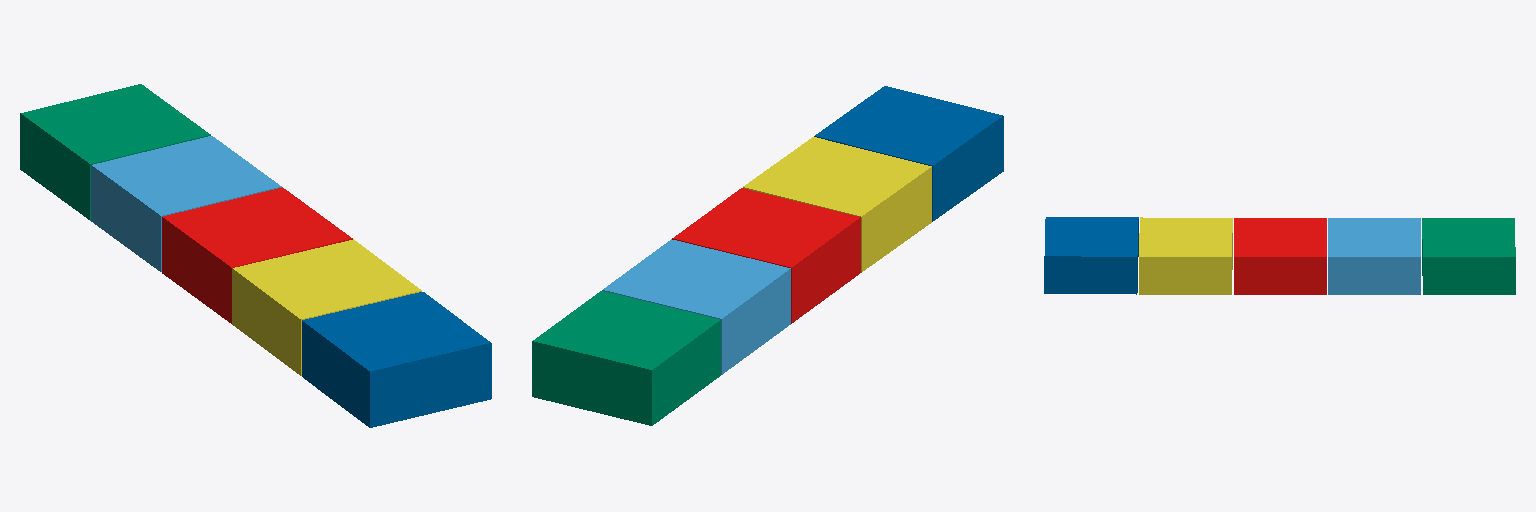
URDF robot description (Model_Models/testPiece.urdf8):
<?xml version='1.0' encoding='UTF-8'?>
<robot name="Model_Models/testPiece.urdf8">
  <link name="base_link">
    <inertial>
      <origin xyz="0.0 0.0 0.0" rpy="0.0 -0.0 0.0"/>
      <mass value="1.0"/>
      <inertia ixx="1.0" ixy="0.0" ixz="0.0" iyy="1.0" iyz="0.0" izz="1.0"/>
    </inertial>
    <visual>
      <geometry>
        <box size="0.67 0.67 0.3 "/>
      </geometry>
      <material name="red"/>
      <origin xyz="0.0 0.0 0.0" rpy="0.0 -0.0 0.0"/>
    </visual>
    <collision>
      <geometry>
        <box size="0.67 0.67 0.3 "/>
      </geometry>
      <origin xyz="0.0 0.0 0.0" rpy="0.0 0.0 0.0"/>
    </collision>
  </link>
  <link name="set0_arm1">
    <inertial>
      <origin xyz="0.0 0.34 0.0" rpy="0.0 0.0 0.0"/>
      <mass value="1.0"/>
      <inertia ixx="0.0" ixy="0.0" ixz="0.0" iyy="0.0" iyz="0.0" izz="0.0"/>
    </inertial>
    <visual>
      <geometry>
        <box size="0.67 0.67 0.3 "/>
      </geometry>
      <origin xyz="0.0 0.34 0.0" rpy="0.0 0.0 0.0"/>
    </visual>
    <collision>
      <geometry>
        <box size="0.67 0.67 0.3 "/>
      </geometry>
      <origin xyz="0.0 0.34 0.0" rpy="0.0 0.0 0.0"/>
    </collision>
  </link>
  <link name="set0_arm2">
    <inertial>
      <origin xyz="0.0 0.34 0.0" rpy="0.0 0.0 0.0"/>
      <mass value="1.0"/>
      <inertia ixx="0.0" ixy="0.0" ixz="0.0" iyy="0.0" iyz="0.0" izz="0.0"/>
    </inertial>
    <visual>
      <geometry>
        <box size="0.67 0.67 0.3 "/>
      </geometry>
      <origin xyz="0.0 0.34 0.0" rpy="0.0 0.0 0.0"/>
    </visual>
    <collision>
      <geometry>
        <box size="0.67 0.67 0.3 "/>
      </geometry>
      <origin xyz="0.0 0.34 0.0" rpy="0.0 0.0 0.0"/>
    </collision>
  </link>
  <link name="arm_Permutation_8_arm1">
    <inertial>
      <origin xyz="0.0 0.34 0.0" rpy="0.0 0.0 0.0"/>
      <mass value="1.0"/>
      <inertia ixx="0.0" ixy="0.0" ixz="0.0" iyy="0.0" iyz="0.0" izz="0.0"/>
    </inertial>
    <visual>
      <geometry>
        <box size="0.67 0.67 0.3 "/>
      </geometry>
      <origin xyz="0.0 0.34 0.0" rpy="0.0 0.0 0.0"/>
    </visual>
    <collision>
      <geometry>
        <box size="0.67 0.67 0.3 "/>
      </geometry>
      <origin xyz="0.0 0.34 0.0" rpy="0.0 0.0 0.0"/>
    </collision>
  </link>
  <link name="arm_Permutation_8_arm2">
    <inertial>
      <origin xyz="0.0 0.34 0.0" rpy="0.0 0.0 0.0"/>
      <mass value="1.0"/>
      <inertia ixx="0.0" ixy="0.0" ixz="0.0" iyy="0.0" iyz="0.0" izz="0.0"/>
    </inertial>
    <visual>
      <geometry>
        <box size="0.67 0.67 0.3 "/>
      </geometry>
      <origin xyz="0.0 0.34 0.0" rpy="0.0 0.0 0.0"/>
    </visual>
    <collision>
      <geometry>
        <box size="0.67 0.67 0.3 "/>
      </geometry>
      <origin xyz="0.0 0.34 0.0" rpy="0.0 0.0 0.0"/>
    </collision>
  </link>
  <joint name="set0_jointBase" type="fixed">
    <limit effort="1.57" velocity="1.57" lower="-1.57" upper="1.57"/>
    <parent link="base_link"/>
    <child link="set0_arm1"/>
    <axis xyz="1. 0. 0."/>
    <origin xyz="0.0 0.34 0.0" rpy="0.0 0.0 0.0008016443998810793"/>
  </joint>
  <joint name="set0_joint1" type="revolute">
    <limit effort="1.57" velocity="1.57" lower="-1.57" upper="1.57"/>
    <parent link="set0_arm1"/>
    <child link="set0_arm2"/>
    <axis xyz="1. 0. 0."/>
    <origin xyz="0.0 0.68 0.0" rpy="0.0 0.0 0.0"/>
  </joint>
  <joint name="arm_Permutation_8_jointBase" type="fixed">
    <limit effort="1.57" velocity="1.57" lower="-1.57" upper="1.57"/>
    <parent link="base_link"/>
    <child link="arm_Permutation_8_arm1"/>
    <axis xyz="1. 0. 0."/>
    <origin xyz="0.0 -0.34 0.0" rpy="0.0 0.0 3.13"/>
  </joint>
  <joint name="arm_Permutation_8_joint1" type="revolute">
    <limit effort="1.57" velocity="1.57" lower="-1.57" upper="1.57"/>
    <parent link="arm_Permutation_8_arm1"/>
    <child link="arm_Permutation_8_arm2"/>
    <axis xyz="1. 0. 0."/>
    <origin xyz="0.0 0.68 0.0" rpy="0.0 0.0 0.0"/>
  </joint>
  <material name="red">
    <color rgba="0.969 0.129 0.122 1.   "/>
  </material>
</robot>

--- What the picture shows (computed from the rendered views, not written in the file) ---
The picture shows the robot from 3 angles, left to right: view 1: azimuth 30°, elevation 25°; view 2: azimuth 150°, elevation 25°; view 3: azimuth 270°, elevation 25°; orthographic projection.
Model Model_Models/testPiece.urdf8 with 5 links and 4 joints (2 revolute, 2 fixed), rooted at base_link, posed every joint at zero.
Visible links, largest first — view 1: arm_Permutation_8_arm2, set0_arm2, set0_arm1, base_link, arm_Permutation_8_arm1; view 2: set0_arm2, arm_Permutation_8_arm2, arm_Permutation_8_arm1, base_link, set0_arm1; view 3: arm_Permutation_8_arm2, arm_Permutation_8_arm1, set0_arm2, base_link, set0_arm1.
Link boxes in pixels (x1,y1,x2,y2): arm_Permutation_8_arm2: (302, 292, 491, 427); set0_arm2: (20, 84, 210, 220); set0_arm1: (91, 136, 281, 271); base_link: (162, 187, 352, 323); arm_Permutation_8_arm1: (232, 239, 421, 375); set0_arm2: (532, 291, 720, 425); arm_Permutation_8_arm2: (814, 86, 1003, 221); arm_Permutation_8_arm1: (743, 137, 931, 272); base_link: (672, 188, 860, 323); set0_arm1: (602, 239, 790, 374); arm_Permutation_8_arm2: (1044, 217, 1138, 294); arm_Permutation_8_arm1: (1139, 217, 1232, 294); set0_arm2: (1422, 218, 1515, 294); base_link: (1234, 218, 1326, 294); set0_arm1: (1328, 218, 1420, 294).
Size in the robot's own frame: 0.6857 by 3.39 by 0.3 metres.
Geometry: primitives only (box / cylinder / sphere), no mesh files.